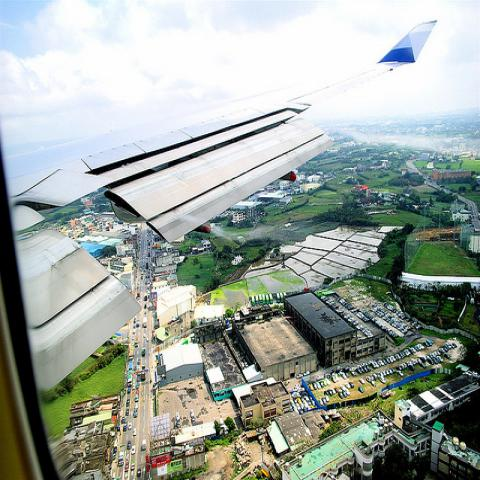car: (121, 248, 459, 474), (142, 438, 147, 450), (132, 444, 136, 455), (128, 421, 132, 431), (127, 440, 131, 450), (137, 467, 141, 476), (134, 394, 138, 403), (131, 461, 135, 470), (134, 402, 138, 410), (126, 398, 130, 406), (123, 424, 127, 432), (133, 428, 137, 435), (125, 410, 128, 415), (145, 311, 147, 316)
